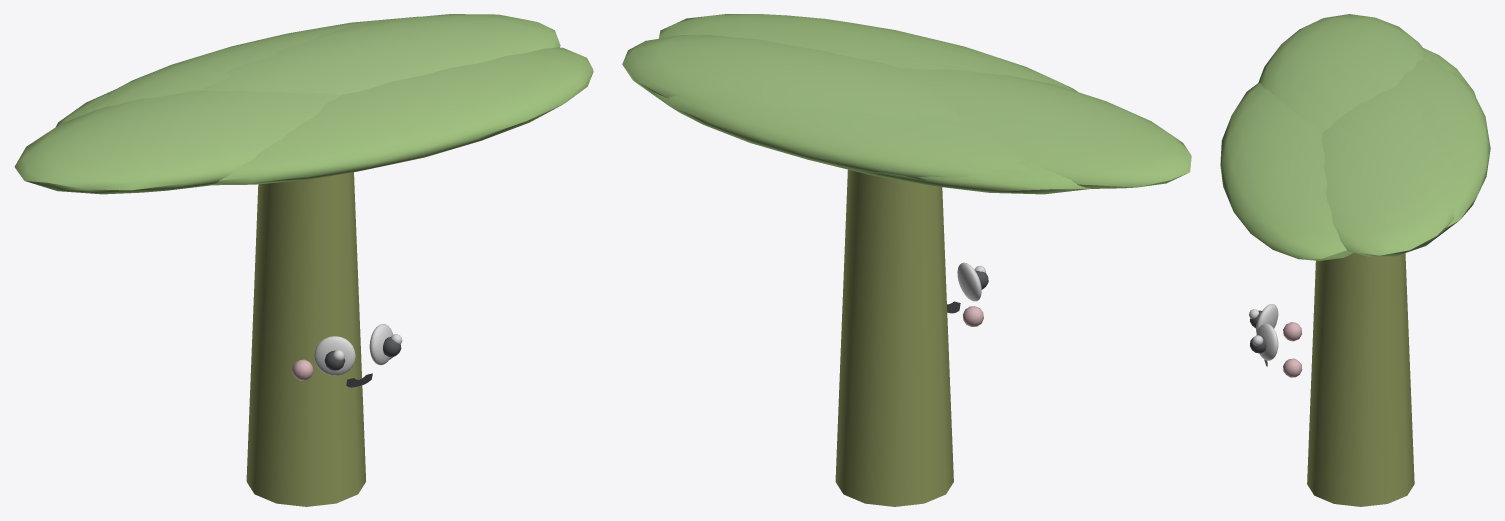
File: hellenia-speciosa.glb
3 renders of one model, left to right at view 1: azimuth 30°, elevation 25°; view 2: azimuth 150°, elevation 25°; view 3: azimuth 270°, elevation 25°, orthographic. The views are drawn at different scales.
Parts seen in each view (by area): view 1: pseudostem, leaf1, leaf2, leaf0, leaf3, pface-eye-r, pface-eye-l; view 2: pseudostem, leaf2, leaf0, leaf3, leaf1, leaf4, pface-eye-r; view 3: pseudostem, leaf0, leaf1, leaf2, leaf3, pface-eye-l, leaf4, pface-eye-r.
Part boxes in pixels (x1,y1,x2,y2): pseudostem: (246,172,365,506); leaf1: (211,47,593,185); leaf2: (14,90,341,194); leaf0: (203,14,560,94); leaf3: (92,16,418,107); pface-eye-r: (314,336,355,375); pface-eye-l: (369,324,393,365); pseudostem: (835,169,953,506); leaf2: (901,68,1191,188); leaf0: (622,35,960,121); leaf3: (654,92,1027,180); leaf1: (659,14,1078,92); leaf4: (807,159,1090,194); pface-eye-r: (957,262,981,301); pseudostem: (1307,253,1414,506); leaf0: (1321,88,1460,256); leaf1: (1220,83,1353,260); leaf2: (1258,14,1423,131); leaf3: (1392,59,1490,229); pface-eye-l: (1256,323,1278,360); leaf4: (1423,48,1475,96); pface-eye-r: (1256,304,1278,333).
Size of the model in its own units: 0.6361 by 0.4461 by 0.3016.
